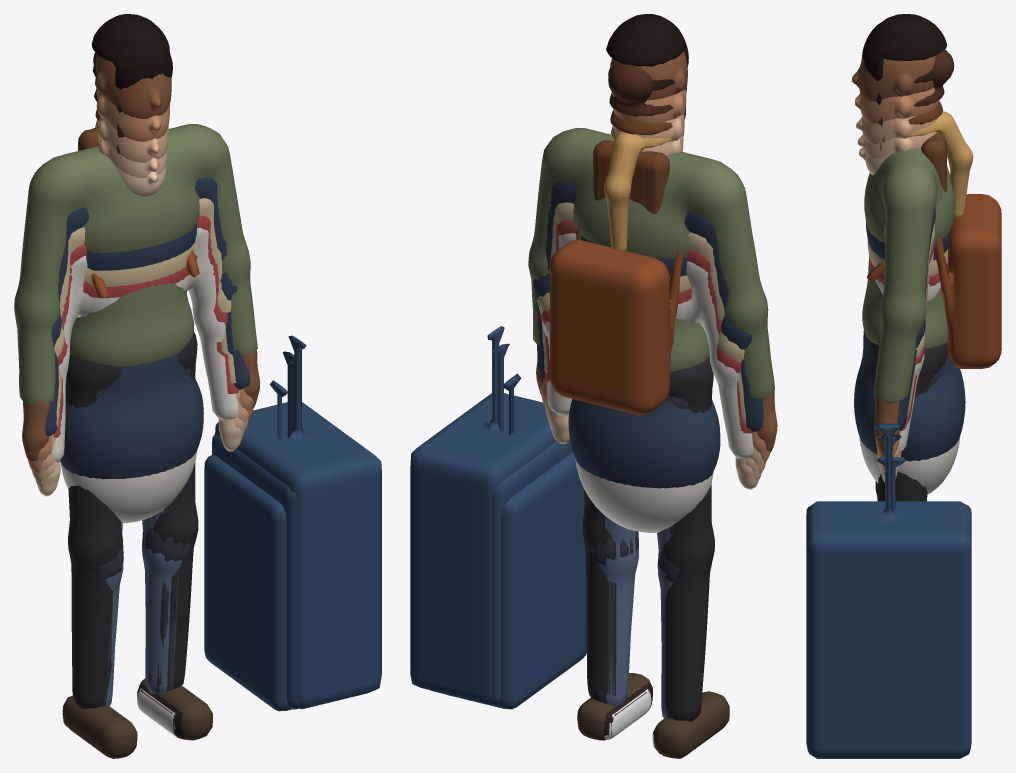
File: people.glb
3 renders of one model, left to right at view 1: azimuth 30°, elevation 25°; view 2: azimuth 150°, elevation 25°; view 3: azimuth 270°, elevation 25°, orthographic. The views are drawn at different scales.
Visible parts, largest first — view 1: voyageur_d__haut, voyageur_d__valise, voyageur_a__haut, voyageuse_e__valise, voyageur_d__bas, voyageuse_e__haut, voyageur_a__valise, voyageur_d__peau, voyageur_d__chaussure, voyageuse_e__bas, voyageur_d__cheveux, voyageuse_c__haut (+9 smaller); view 2: voyageur_d__valise, voyageur_d__haut, voyageuse_c__sac, voyageuse_e__valise, voyageur_a__haut, voyageur_d__bas, voyageuse_e__haut, voyageuse_e__bas, voyageur_a__valise, voyageur_d__chaussure, voyageuse_b__cheveux, voyageur_d__cheveux (+13 smaller); view 3: voyageur_d__valise, voyageur_d__haut, voyageuse_c__sac, voyageur_a__haut, voyageur_d__cheveux, voyageur_d__peau, voyageuse_e__haut, voyageuse_e__cheveux, voyageur_d__bas, voyageur_a__peau, voyageuse_c__peau, voyageuse_b__cheveux (+5 smaller).
Part boxes in pixels (box(x1,y1,x2,y2)): voyageur_d__haut: box(14, 124, 257, 405); voyageur_d__valise: box(215, 335, 381, 709); voyageur_a__haut: box(45, 177, 249, 479); voyageuse_e__valise: box(204, 380, 291, 711); voyageur_d__bas: box(65, 332, 198, 708); voyageuse_e__haut: box(52, 228, 238, 523); voyageur_a__valise: box(212, 351, 302, 709); voyageur_d__peau: box(22, 55, 260, 461); voyageur_d__chaussure: box(62, 678, 212, 758); voyageuse_e__bas: box(105, 509, 181, 706); voyageur_d__cheveux: box(91, 14, 172, 89); voyageuse_c__haut: box(54, 198, 236, 425); voyageur_d__valise: box(410, 326, 556, 704); voyageur_d__haut: box(528, 127, 774, 400); voyageuse_c__sac: box(550, 210, 682, 415); voyageuse_e__valise: box(446, 373, 586, 709); voyageur_a__haut: box(533, 181, 763, 488); voyageur_d__bas: box(582, 355, 714, 721); voyageuse_e__haut: box(542, 233, 753, 532); voyageuse_e__bas: box(597, 509, 673, 718); voyageur_a__valise: box(431, 343, 572, 706); voyageur_d__chaussure: box(577, 673, 729, 758); voyageuse_b__cheveux: box(593, 110, 684, 214); voyageur_d__cheveux: box(606, 14, 688, 68); voyageur_d__valise: box(806, 423, 971, 758); voyageur_d__haut: box(862, 148, 954, 403); voyageuse_c__sac: box(867, 194, 1001, 368); voyageur_a__haut: box(854, 205, 965, 461); voyageur_d__cheveux: box(862, 14, 946, 80); voyageur_d__peau: box(851, 56, 935, 455); voyageuse_e__haut: box(859, 251, 960, 494); voyageuse_e__cheveux: box(879, 111, 973, 218); voyageur_d__bas: box(869, 341, 948, 501); voyageur_a__peau: box(855, 88, 939, 456); voyageuse_c__peau: box(856, 116, 937, 472); voyageuse_b__cheveux: box(882, 101, 946, 265).
Bounding box in the file's own units: 0.9192 × 1.94 × 0.51.
